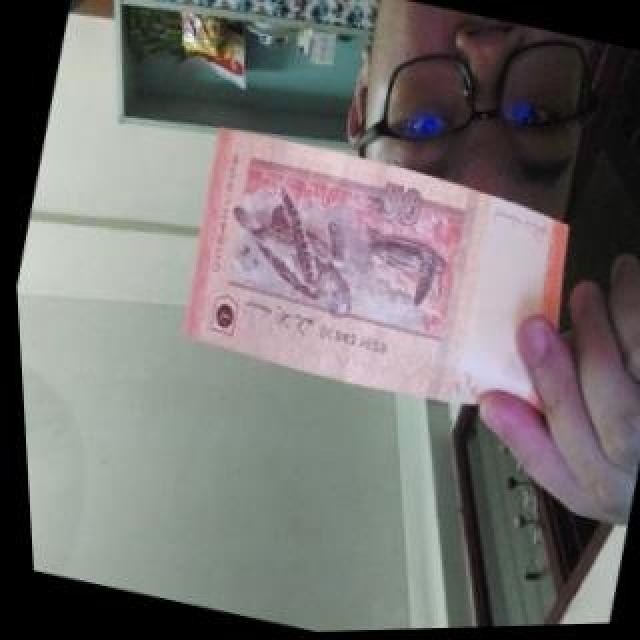20 Ringgit: (162, 112, 588, 432)
